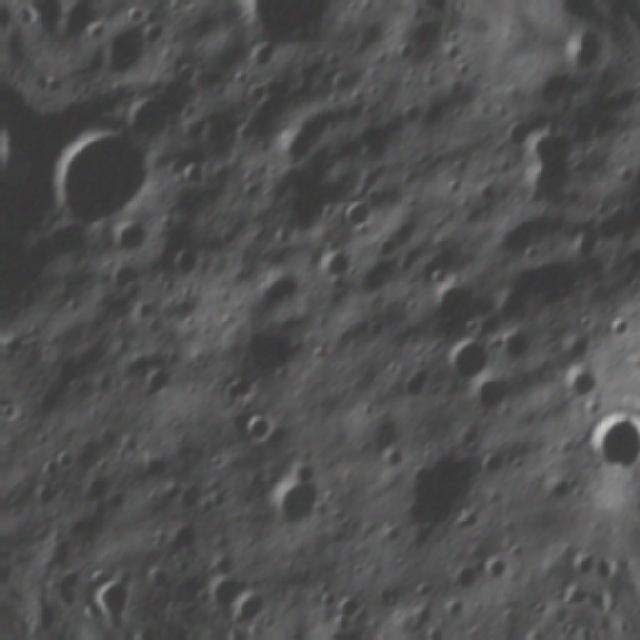crater: (48, 117, 157, 241), (234, 0, 320, 62), (569, 403, 628, 482), (267, 463, 327, 534), (197, 568, 266, 626), (441, 331, 499, 384), (302, 614, 386, 640), (235, 411, 279, 452), (75, 579, 138, 607)
